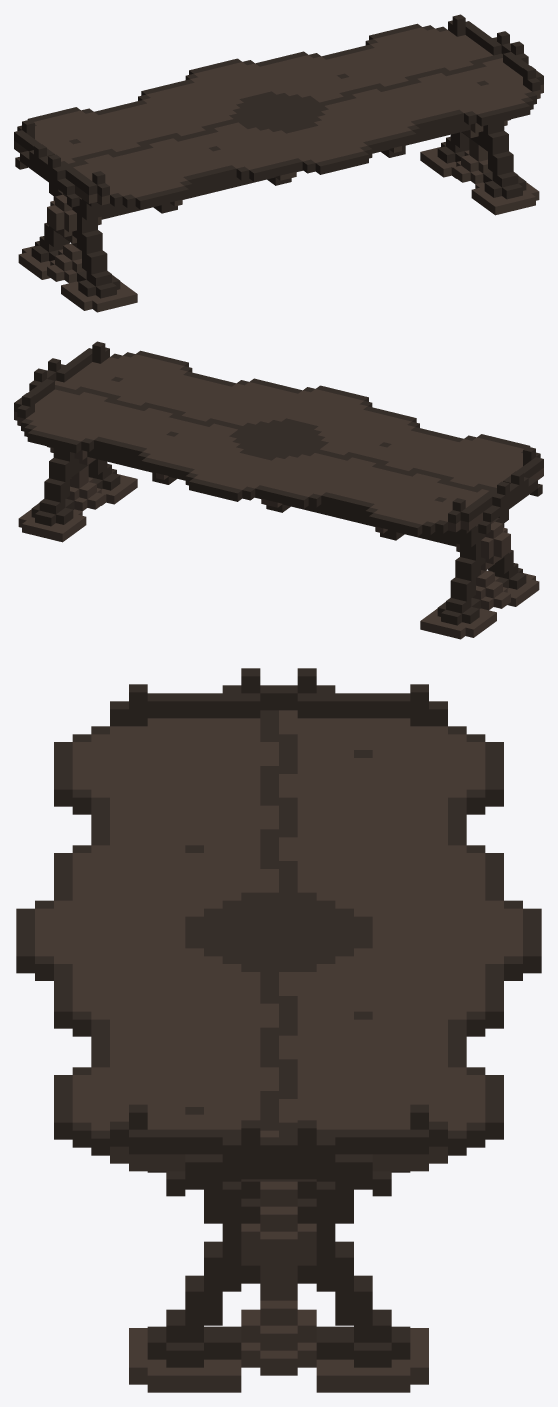
The model's file is Table.obj.
The picture shows the model from 3 angles, top to bottom: view 1: azimuth 30°, elevation 25°; view 2: azimuth 150°, elevation 25°; view 3: azimuth 270°, elevation 25°; orthographic projection. The views are drawn at different scales.
Bounding box in the file's own units: 5.8 × 1.6 × 2.8.
1 material, 1 textured.
